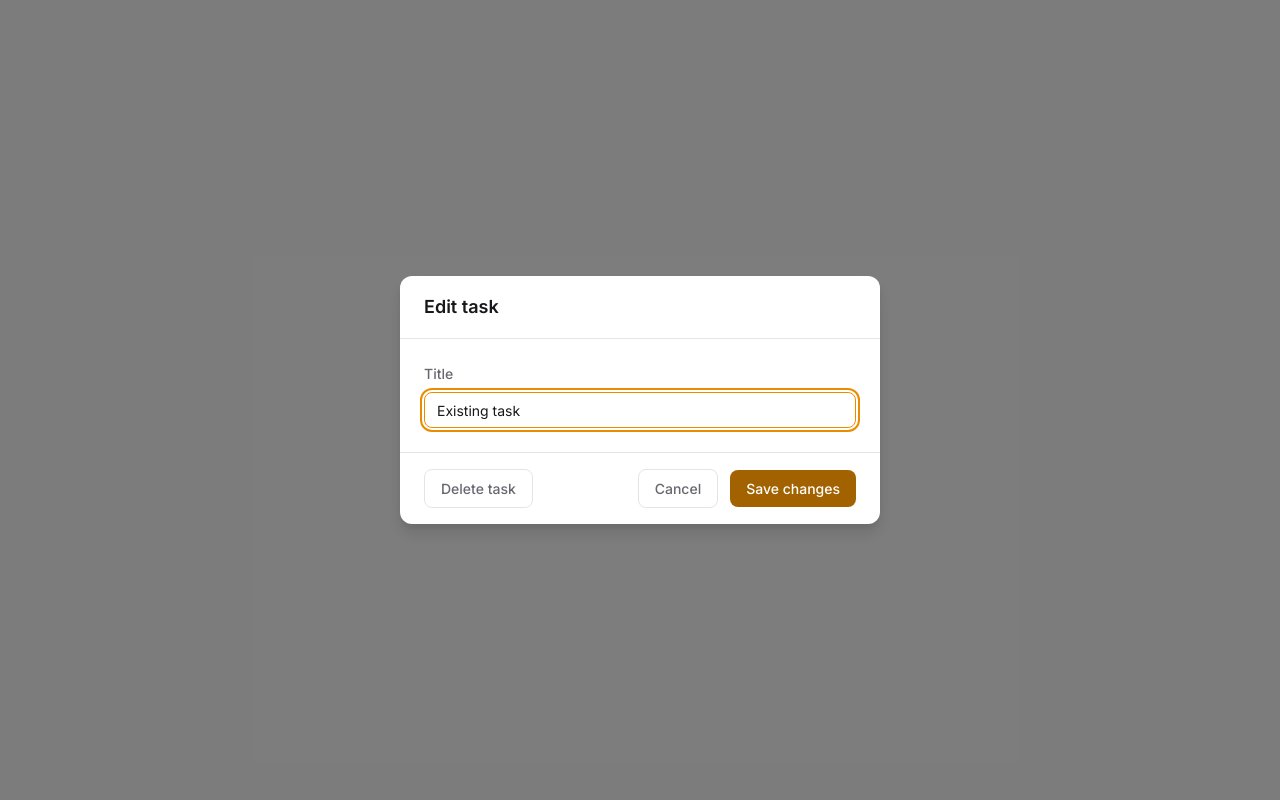
TaskModal DeleteButton › should show a confirm button on first click, not delete immediately
This screenshot has width=1280, height=800.
Click the button "Delete task" at [478, 489], box [424,469,533,508]
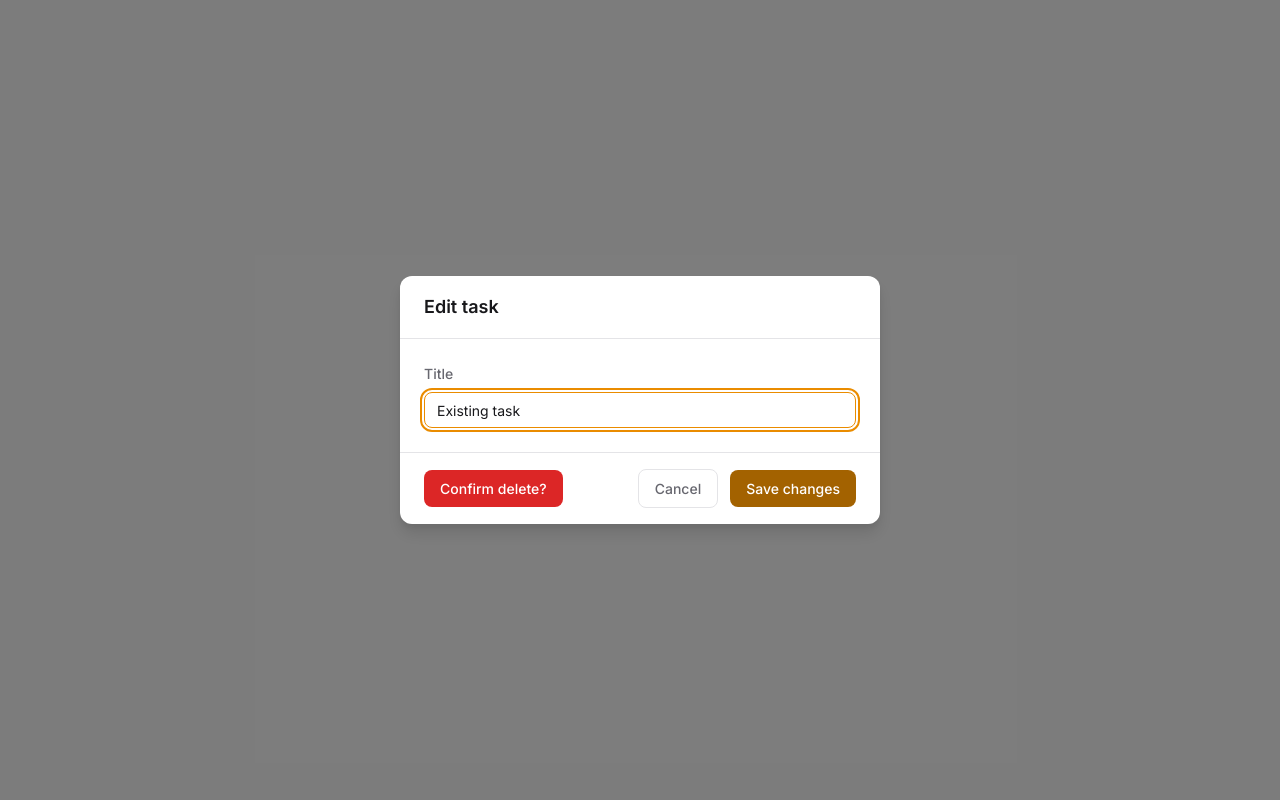
Expected: the button "Confirm delete?" is shown, [424,470,563,507]
